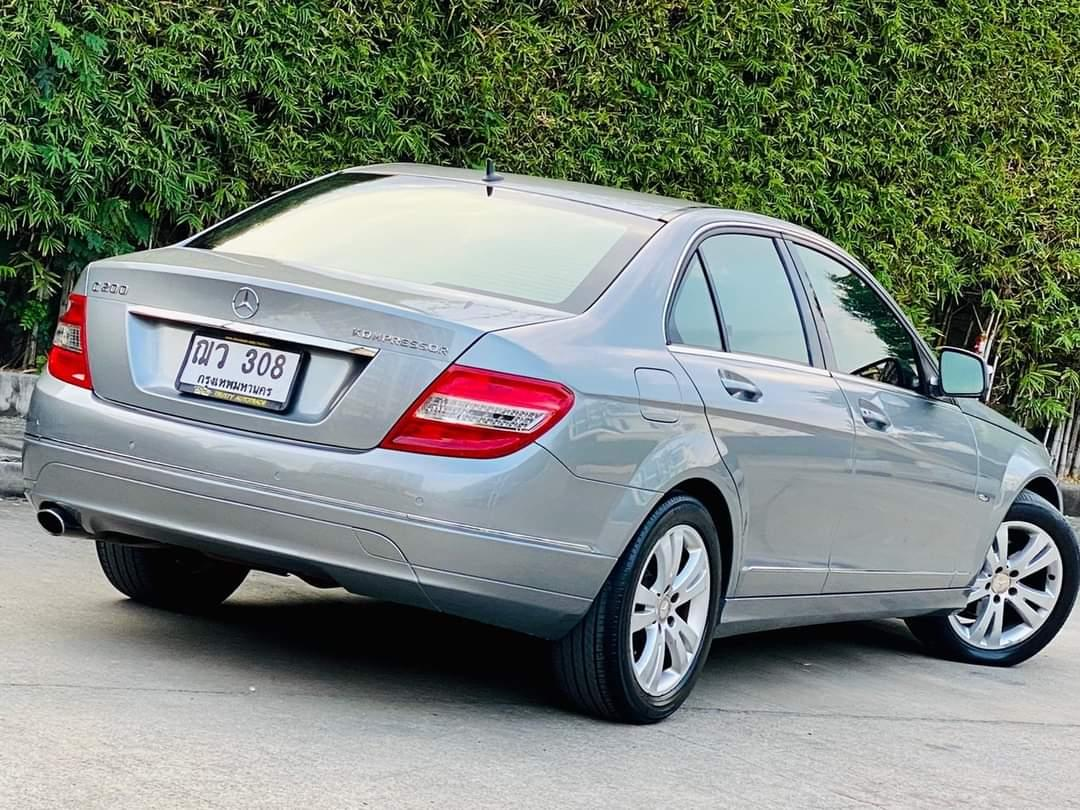license-plate: (170, 322, 312, 418)
